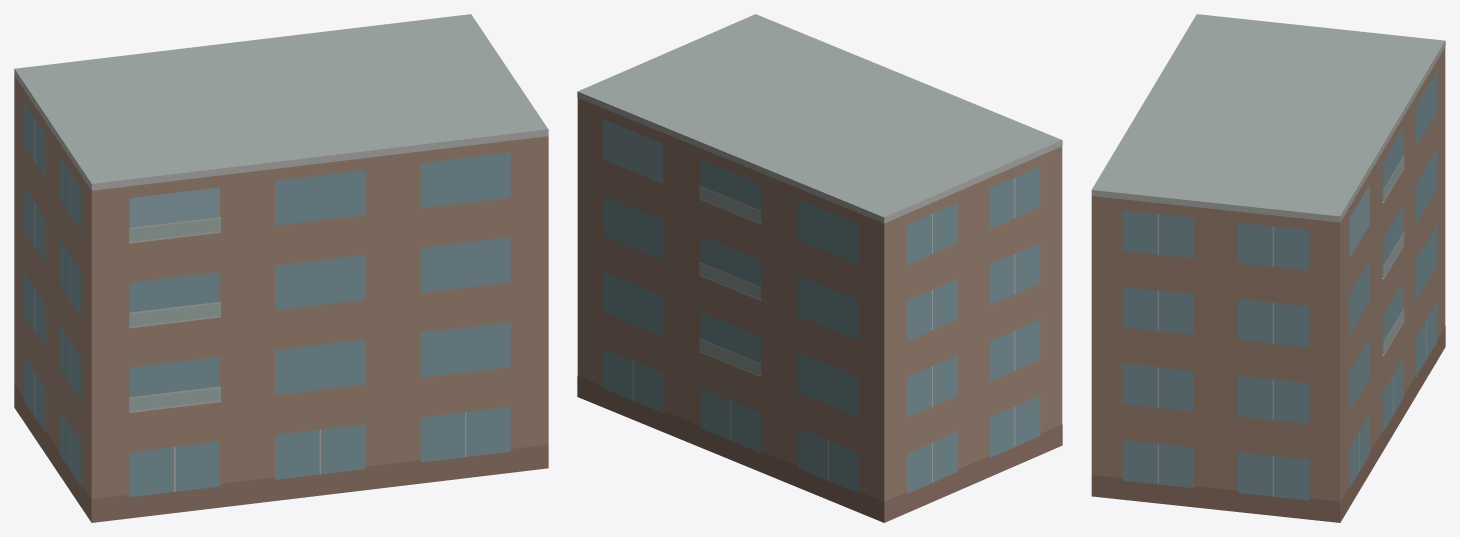
Rendered from residential-c2d1c525-ffcd-4678-aba5-12de2582bb3a.glb.
The picture shows the model from 3 angles, left to right: view 1: azimuth 30°, elevation 25°; view 2: azimuth 150°, elevation 25°; view 3: azimuth 270°, elevation 25°; orthographic projection. The views are drawn at different scales.
Visible parts, largest first — view 1: residential-c2d1c525-ffcd-4678-aba5-12de2582bb3a.tmp; view 2: residential-c2d1c525-ffcd-4678-aba5-12de2582bb3a.tmp; view 3: residential-c2d1c525-ffcd-4678-aba5-12de2582bb3a.tmp.
Part boxes in pixels (x1=…): residential-c2d1c525-ffcd-4678-aba5-12de2582bb3a.tmp: x1=14, y1=14, x2=548, y2=522; residential-c2d1c525-ffcd-4678-aba5-12de2582bb3a.tmp: x1=577, y1=14, x2=1062, y2=522; residential-c2d1c525-ffcd-4678-aba5-12de2582bb3a.tmp: x1=1091, y1=14, x2=1445, y2=522.
Bounding box in the file's own units: 17.29 × 12.2 × 12.78.
